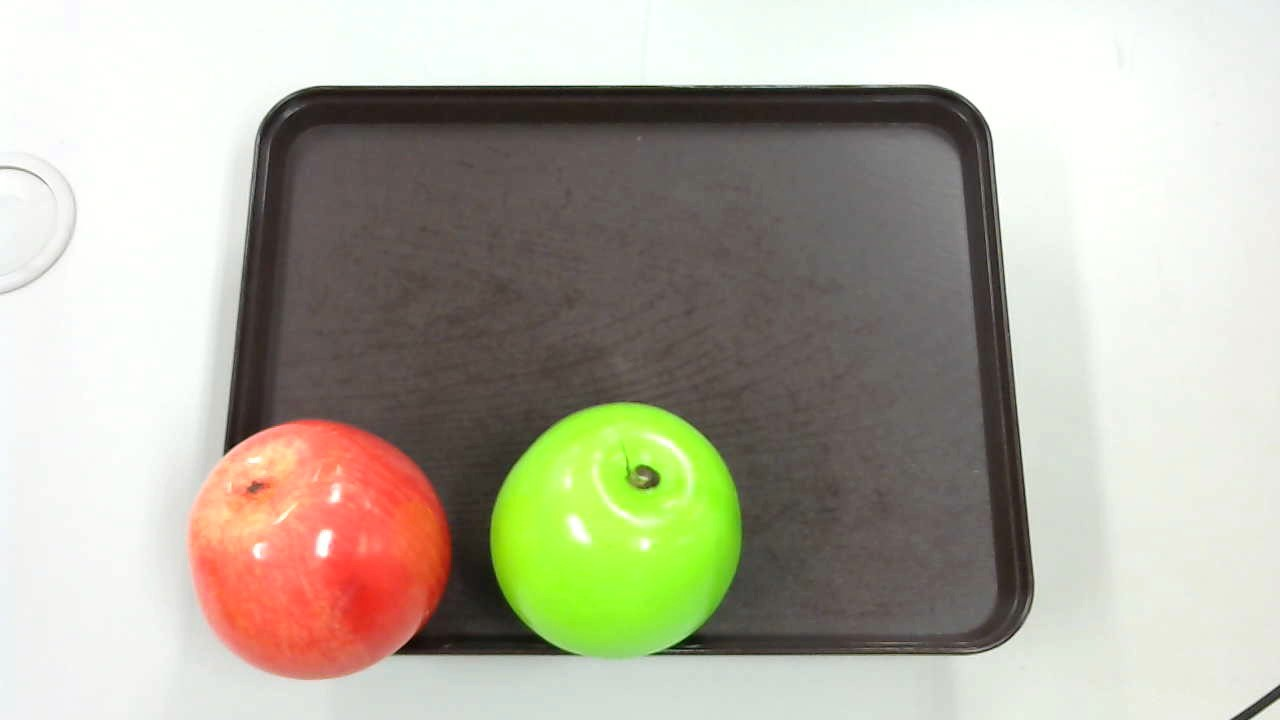green apple: (486, 405, 749, 663)
red apple: (189, 414, 459, 684)
